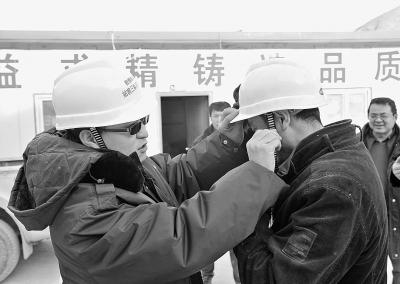helmet: (51, 60, 155, 128), (232, 62, 328, 122)
